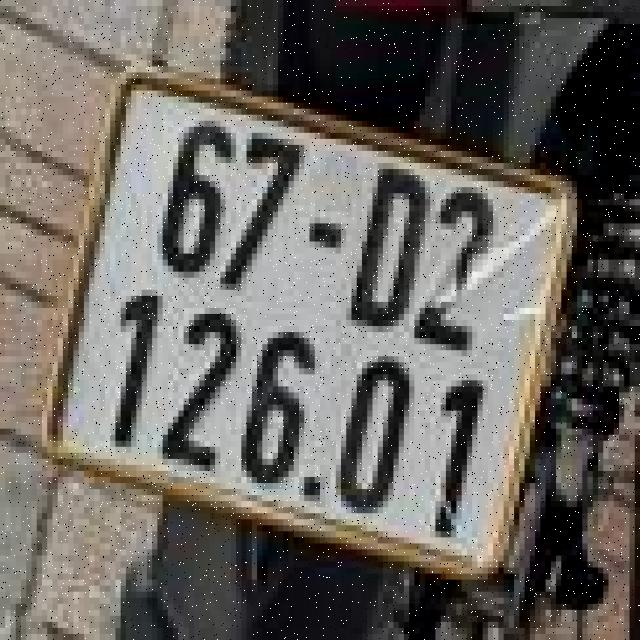0: (336, 344, 414, 519)
1: (430, 368, 493, 544), (108, 278, 165, 459)
2: (417, 181, 501, 356), (160, 305, 239, 474)
6: (150, 100, 233, 298), (242, 323, 326, 492)
7: (226, 124, 310, 305)
D: (346, 151, 430, 350)
